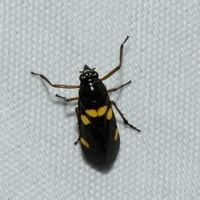insect: (31, 36, 139, 164)
